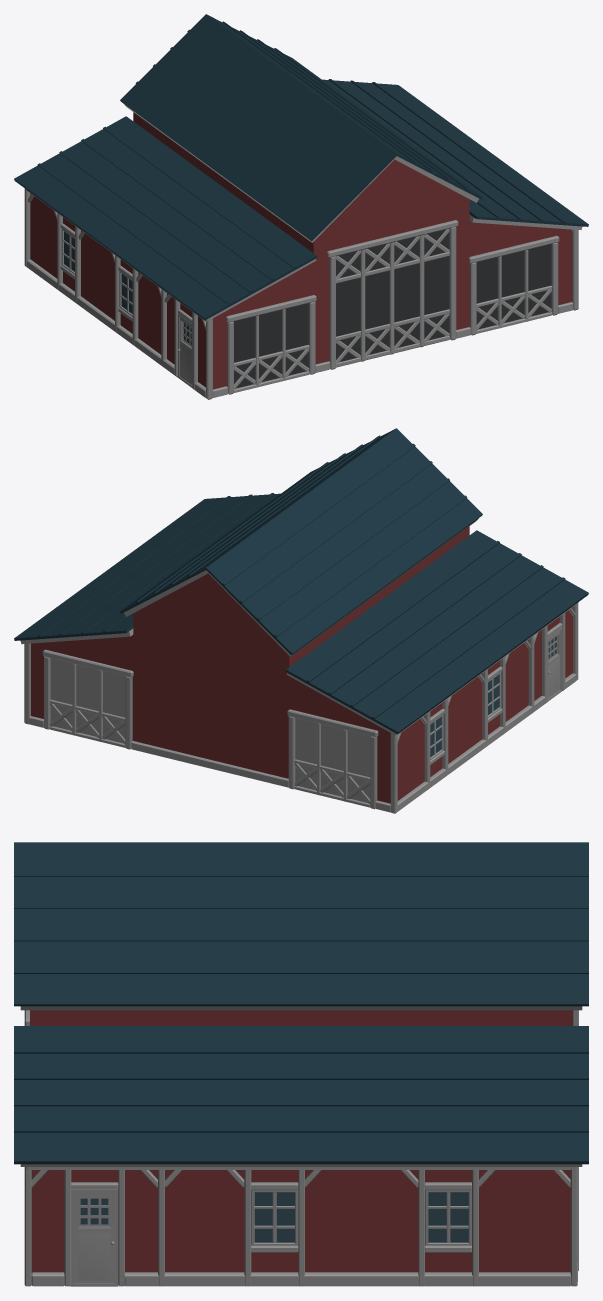
The model's file is farmbuilding_06.glb.
3 views of the same model, one above another, from view 1: azimuth 30°, elevation 25°; view 2: azimuth 150°, elevation 25°; view 3: azimuth 270°, elevation 25° (orthographic). The views are drawn at different scales.
Parts seen in each view (by area): view 1: farmbuilding_06; view 2: farmbuilding_06; view 3: farmbuilding_06.
Boxes of the visible parts, x1,y1,x2,y2 form: farmbuilding_06: [14, 14, 588, 399]; farmbuilding_06: [14, 428, 588, 813]; farmbuilding_06: [14, 842, 588, 1286].
Size of the model in its own units: 14.79 by 7.51 by 12.7.
1 material, 1 textured.
